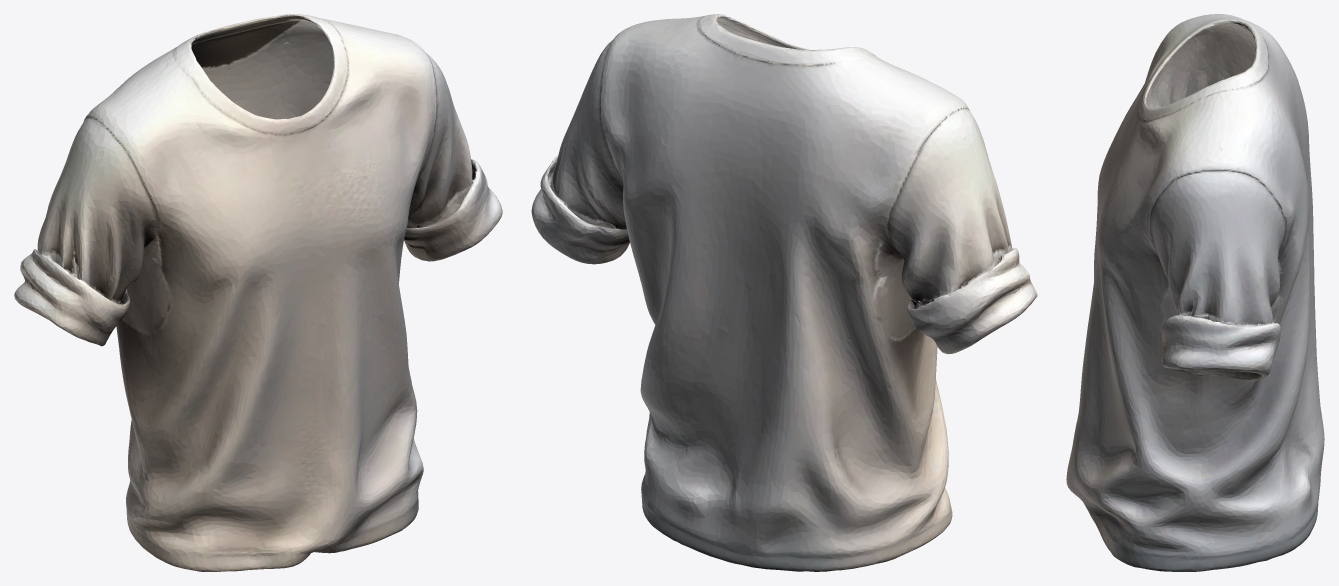
File: tshirt.glb
3 renders of one model, left to right at view 1: azimuth 30°, elevation 25°; view 2: azimuth 150°, elevation 25°; view 3: azimuth 270°, elevation 25°, orthographic. The views are drawn at different scales.
Parts seen in each view (by area): view 1: world; view 2: world; view 3: world.
Part boxes in pixels (<box>): world: <box>14,14,502,571</box>; world: <box>531,14,1037,571</box>; world: <box>1066,14,1324,571</box>.
Size of the model in its own units: 1.99 by 1.96 by 0.9826.
1 material, 1 textured.
